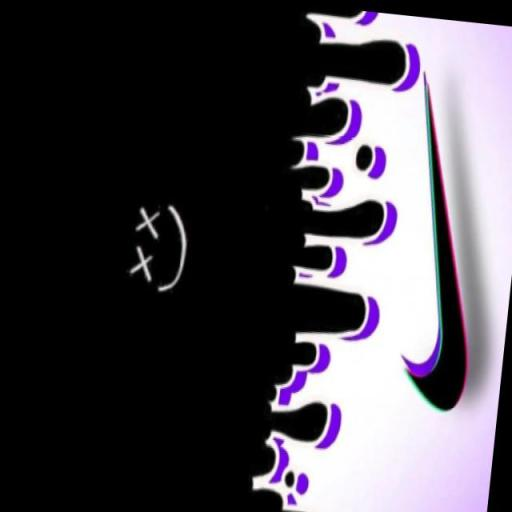Nike: (377, 43, 512, 436)
